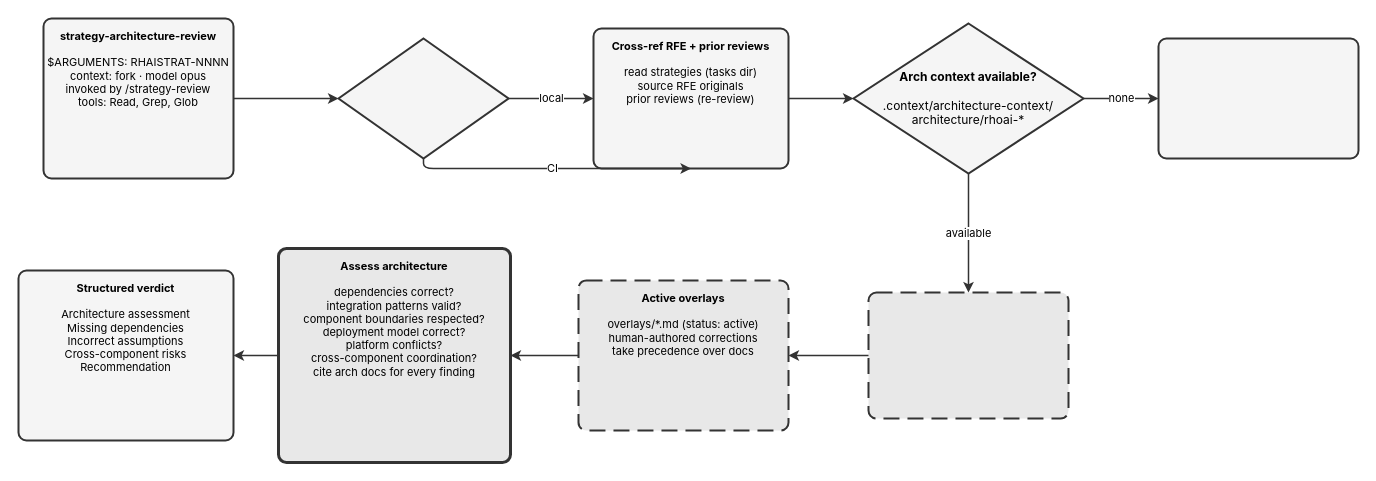
The diagram is 1376 pixels wide and 481 high, and some of its shapes have lost their labels. Each missing label, with the box of its shape:
Mode? local/strat-tasks present? local vs artifacts (CI): (337, 37, 509, 159)
Read arch context PLATFORM.md component docs per strategy: (867, 291, 1069, 419)
Skip review "Architecture review skipped — no context available" exit cleanly: (1157, 37, 1359, 159)
